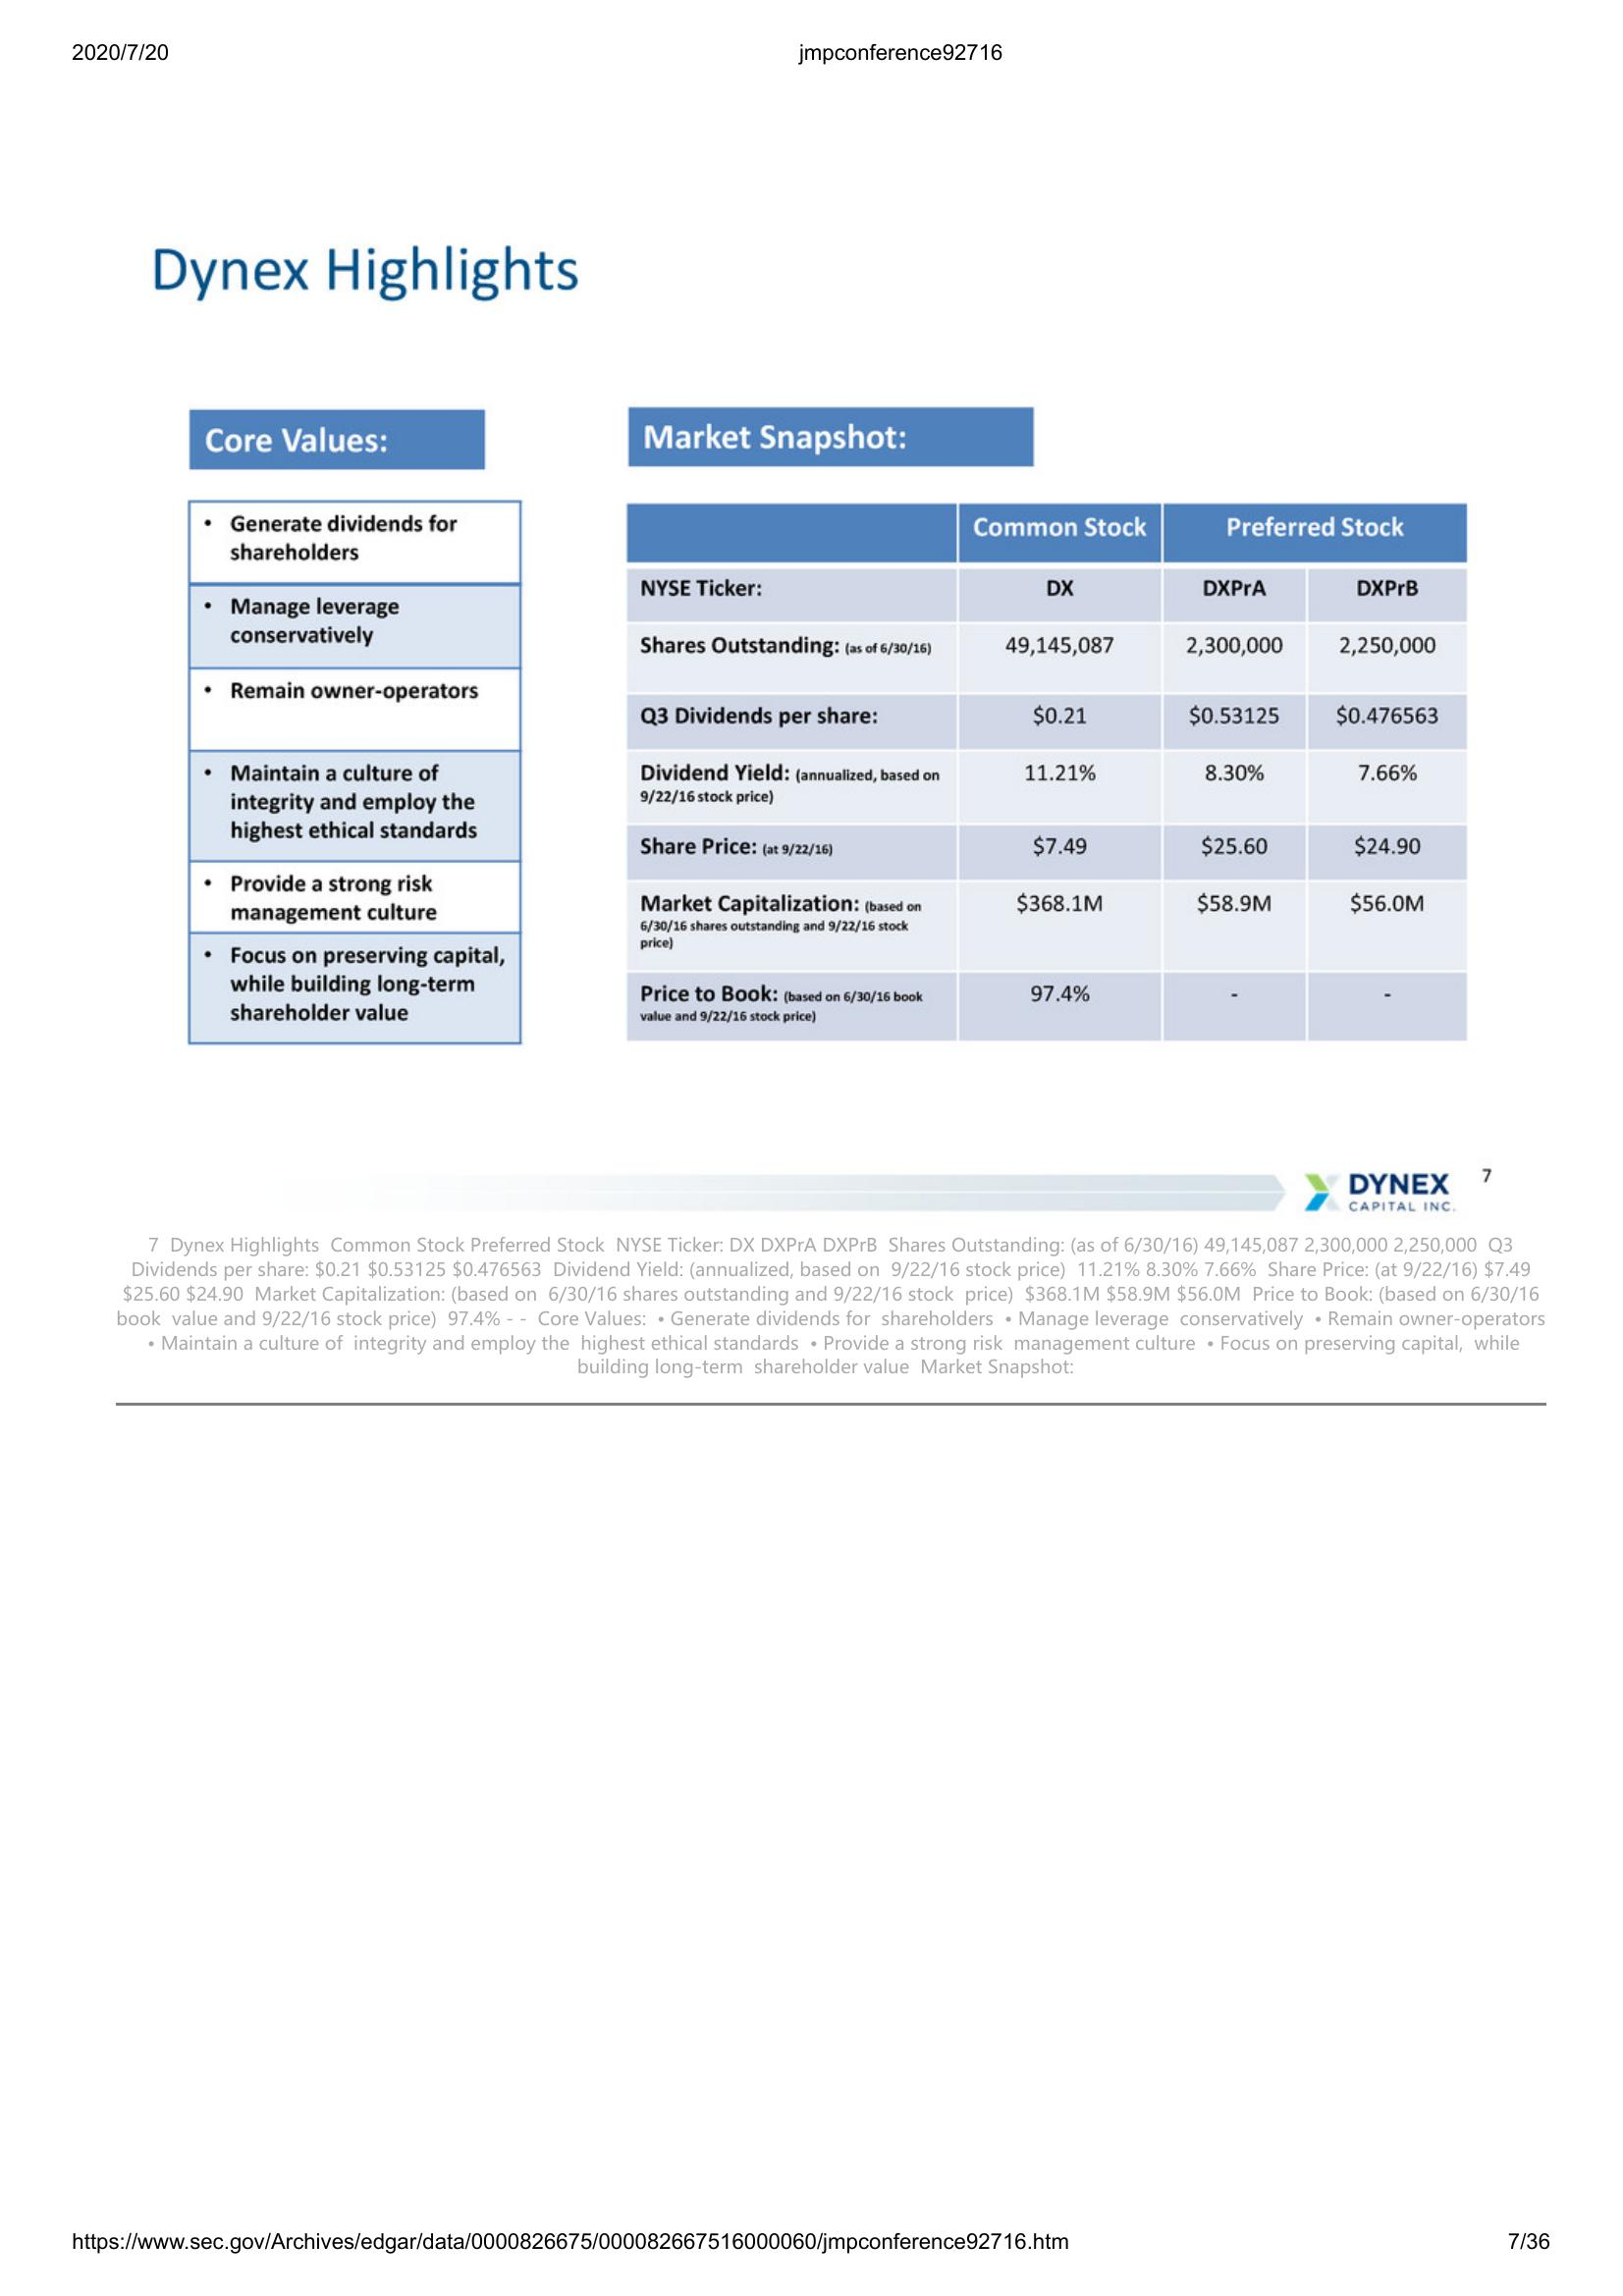table: (620, 500, 1474, 1048)
